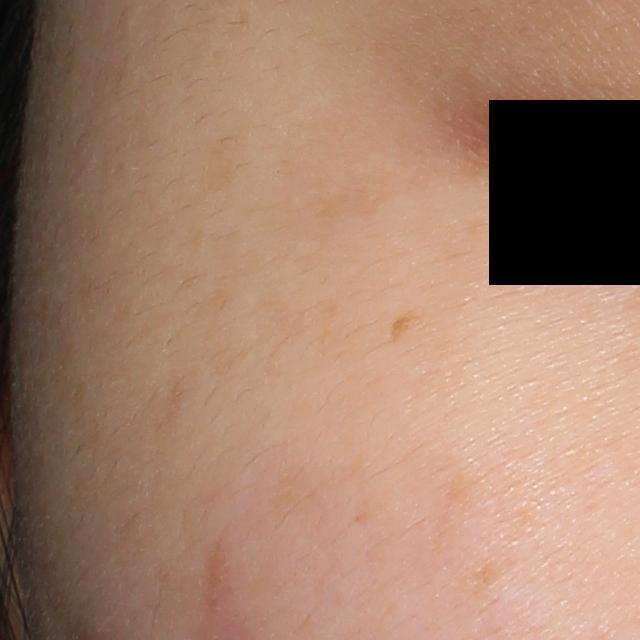melasma: (189, 136, 246, 204), (305, 183, 397, 223), (201, 272, 243, 325), (388, 313, 425, 343)
